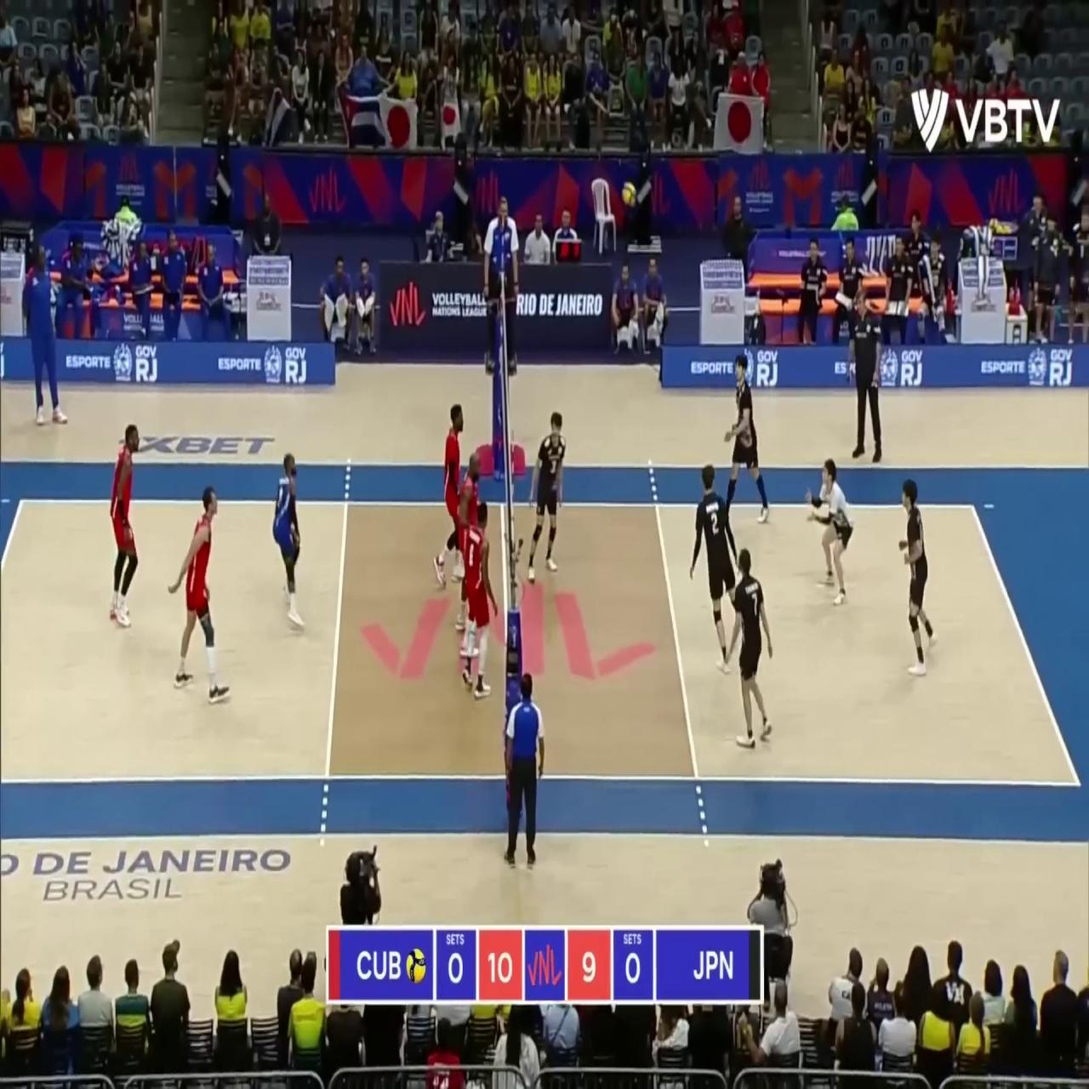ball: (623, 181, 635, 207)
